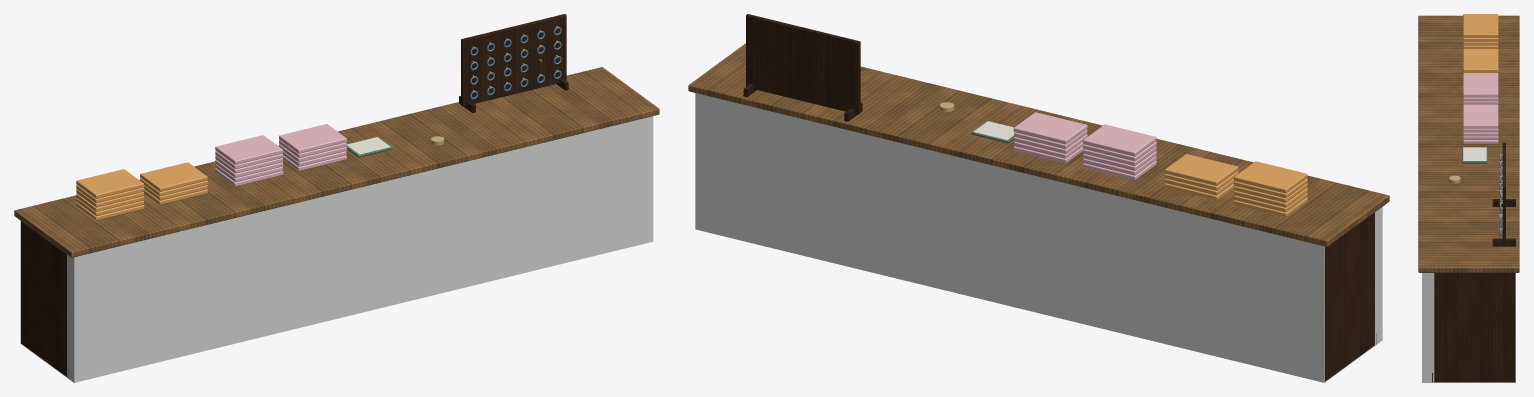
File: counter.mobile.glb
3 renders of one model, left to right at view 1: azimuth 30°, elevation 25°; view 2: azimuth 150°, elevation 25°; view 3: azimuth 270°, elevation 25°, orthographic. The views are drawn at different scales.
Visible parts, largest first — view 1: COL_Counter, Counter; view 2: COL_Counter, Counter; view 3: Counter, COL_Counter.
Boxes of the visible parts, x1=… form: COL_Counter: x1=20, y1=116, x2=653, y2=382; Counter: x1=14, y1=14, x2=659, y2=377; COL_Counter: x1=695, y1=93, x2=1382, y2=382; Counter: x1=688, y1=14, x2=1389, y2=381; Counter: x1=1418, y1=14, x2=1519, y2=382; COL_Counter: x1=1422, y1=273, x2=1515, y2=382.
Bounding box in the file's own units: 5.08 × 1.68 × 0.8601.
Materials: 9 (2 with a texture image).
